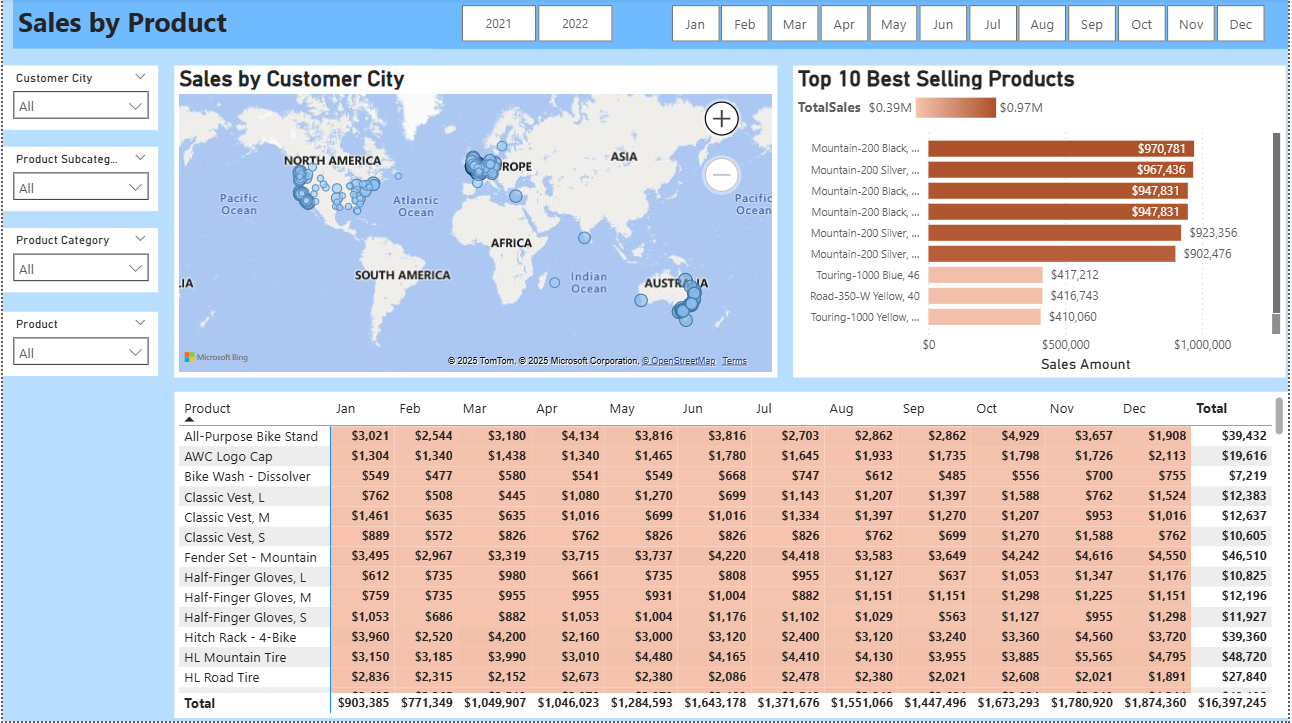

This screenshot's page, from the dashboard's own definition file:
{"tool":"powerbi","page":{"name":"Sales by Product","canvas":[1280,720],"ordinal":2},"visuals":[{"type":"textbox","box":[10.1,0,1269.9,50.4],"z":0},{"type":"slicer","fields":{"Values":["DimCustomer.CustomerCity"]},"box":[0,67.2,154.5,63.8],"z":1000},{"type":"slicer","fields":{"Values":["DimProduct.ProductSubCategory"]},"box":[0,147.8,154.5,63.8],"z":2000},{"type":"slicer","fields":{"Values":["DimProduct.ProductCategory"]},"box":[0,228.5,154.5,63.8],"z":3000},{"type":"slicer","fields":{"Values":["DimProduct.ProductName"]},"box":[0,312.4,154.5,63.8],"z":4000},{"type":"slicer","fields":{"Values":["DimDate.Year"]},"box":[431,0,200,50],"z":5000},{"type":"slicer","fields":{"Values":["DimDate.MonthShort"]},"box":[640,0,640,50],"z":6000},{"type":"pivotTable","fields":{"Columns":["DimDate.MonthShort"],"Values":["Key Measures.TotalSales"],"Rows":["DimProduct.ProductName"]},"box":[171,392.2,1109,324.7],"z":7000},{"type":"barChart","title":"Top 10 Best Selling Products","fields":{"Y":["Key Measures.TotalSales"],"Category":["DimProduct.ProductName"]},"box":[785.9,67.5,490,310],"z":8000},{"type":"map","title":"Sales by Customer City","fields":{"Category":["DimCustomer.CustomerCity"],"Size":["Key Measures.TotalSales"]},"box":[171,67.5,600,310],"z":9000}]}

Visuals, with their boxes in screenshot pixels (x1, y1, x2, y2), scaled from the page's 1280x720 canvas onto the 1292x723 screenshot:
textbox: box(10, 0, 1291, 51)
slicer - DimCustomer.CustomerCity: box(0, 67, 156, 132)
slicer - DimProduct.ProductSubCategory: box(0, 148, 156, 212)
slicer - DimProduct.ProductCategory: box(0, 229, 156, 294)
slicer - DimProduct.ProductName: box(0, 314, 156, 378)
slicer - DimDate.Year: box(435, 0, 637, 50)
slicer - DimDate.MonthShort: box(646, 0, 1291, 50)
pivotTable - DimDate.MonthShort x Key Measures.TotalSales: box(173, 394, 1291, 720)
"Top 10 Best Selling Products" barChart: box(793, 68, 1288, 379)
"Sales by Customer City" map: box(173, 68, 778, 379)
